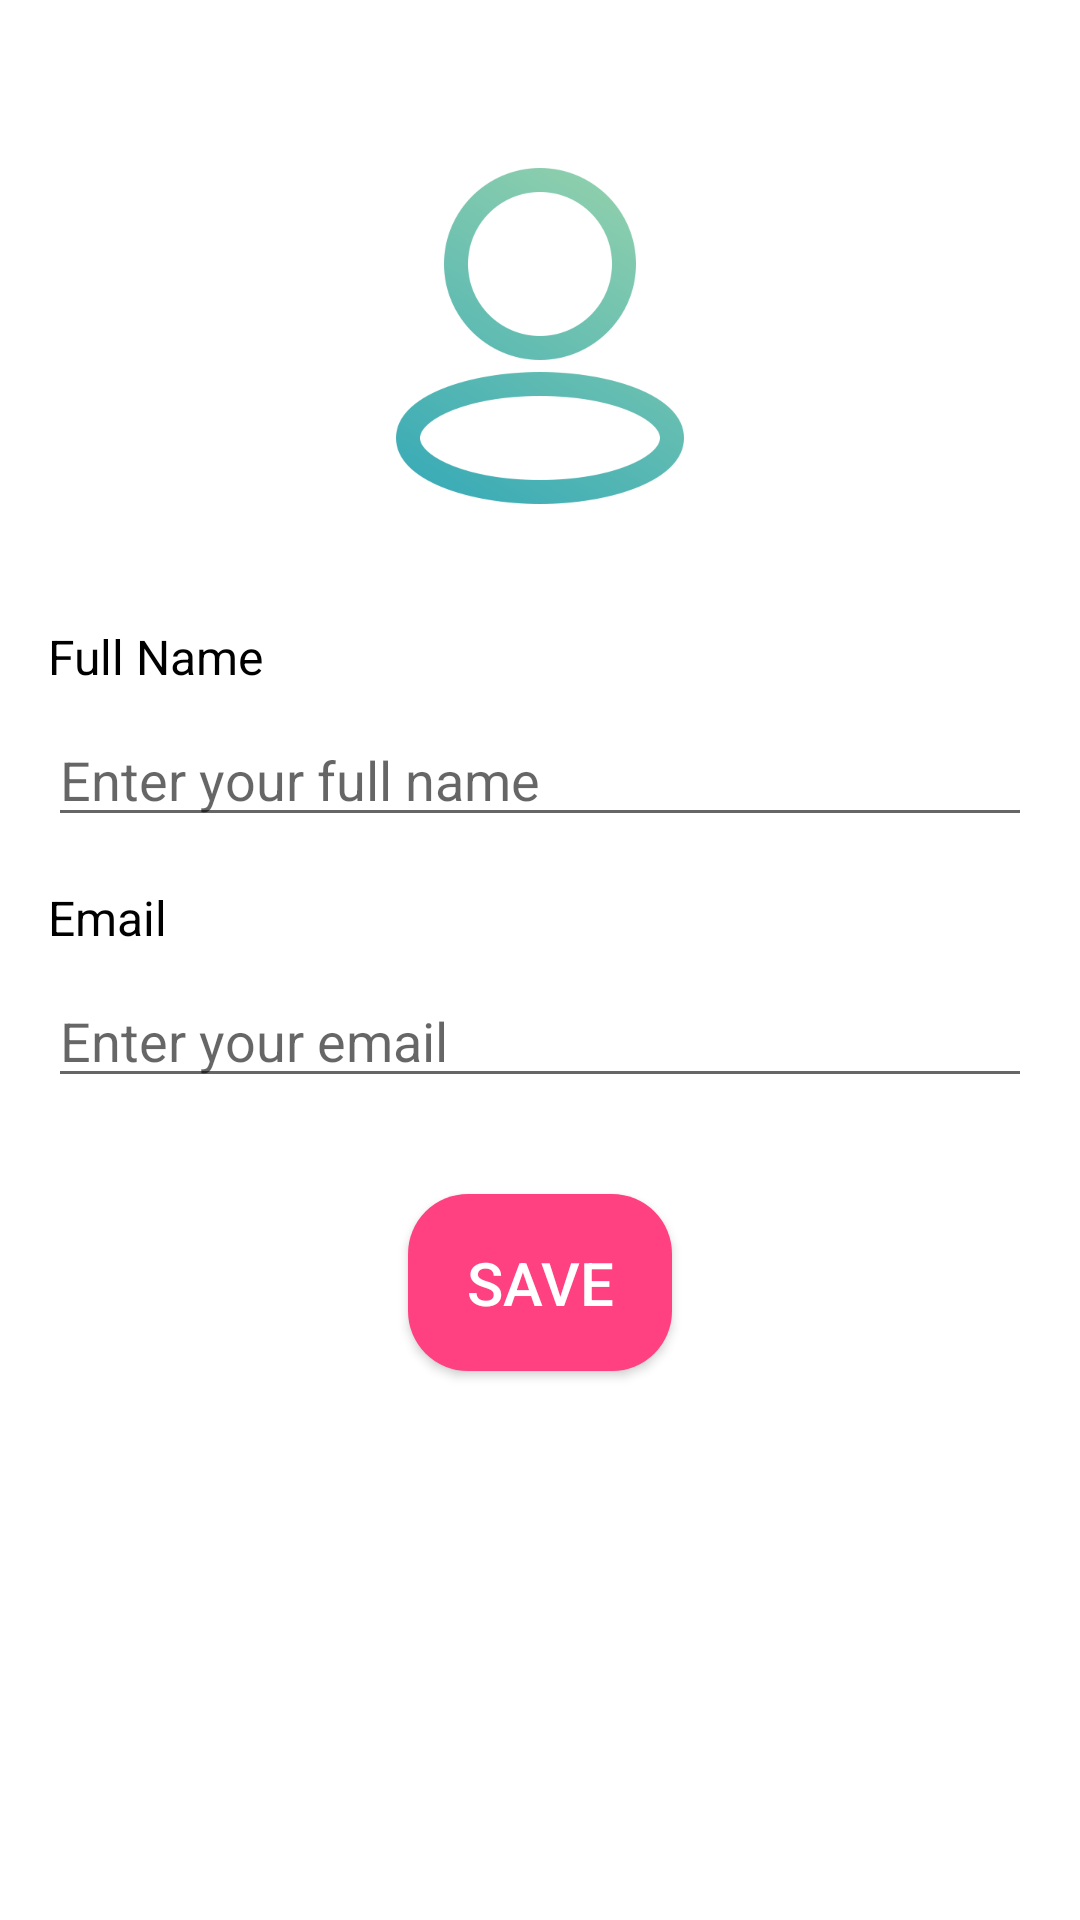

Icons on this 1080×1920 Android screen, each with the point to tap as [x,y]:
user: [540,336]
